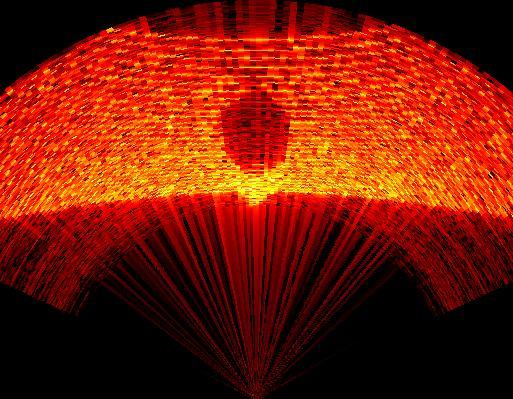box_crate: (218, 83, 298, 188)
